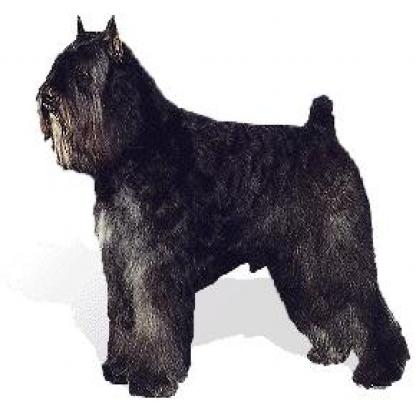Bouvier_des_Flandres: (32, 10, 406, 393)
